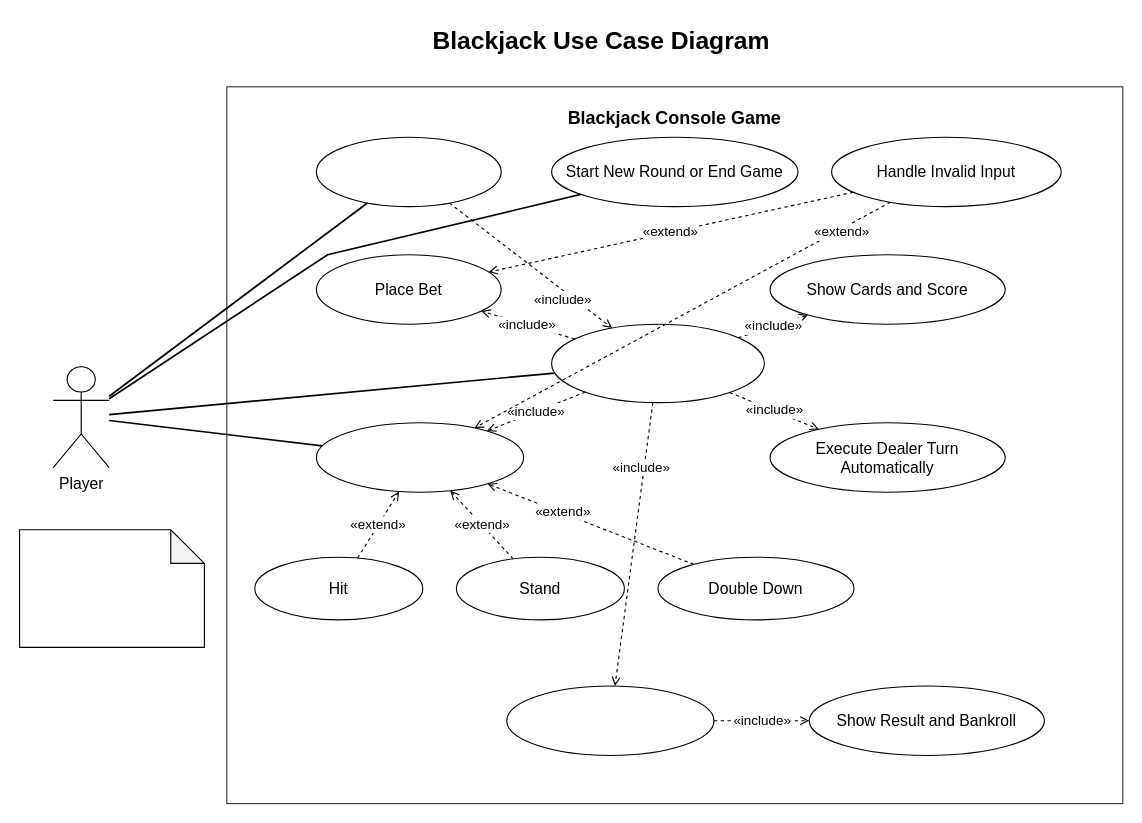
Some shapes in this 1142 by 823 pixel diagram are drawn without their labels. The centre of each missing label's shape, as x and y in pixels:
Choose Player Action: the point at 419,457
Determine Result: the point at 610,720
Note: The dealer is not an external actor, but part of the system logic.: the point at 111,588
Play Blackjack Round: the point at 657,363
Start Game: the point at 408,171
